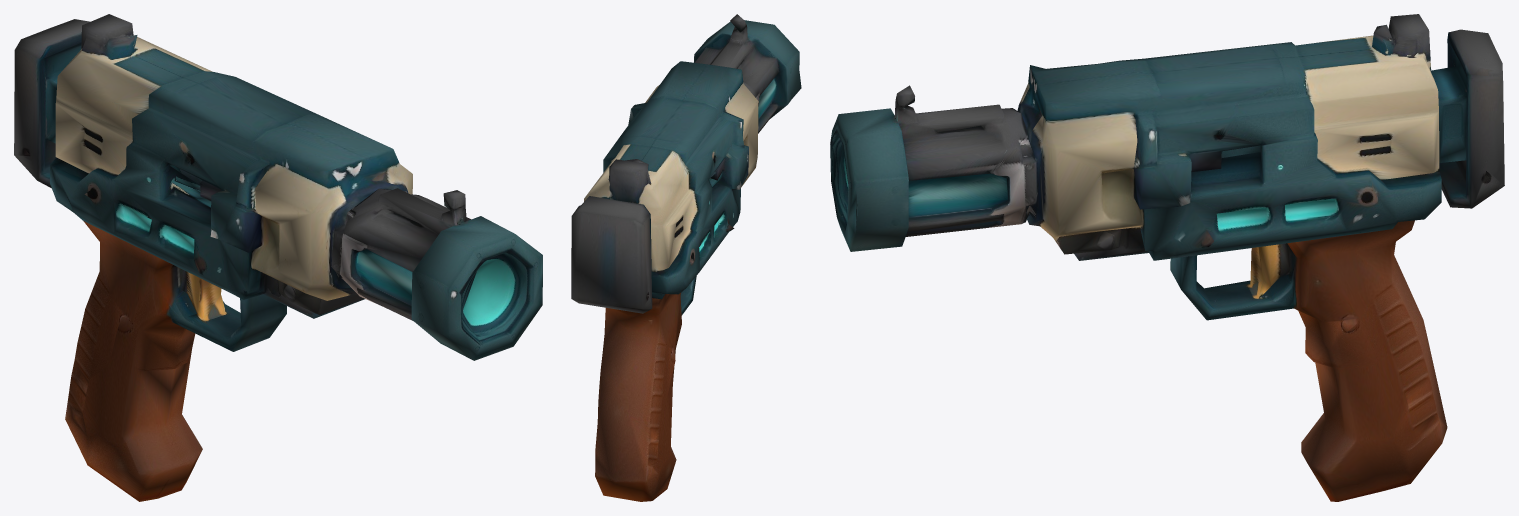
The model's file is weapon_laser_gun_1500.glb.
3 views of the same model, side by side, from view 1: azimuth 30°, elevation 25°; view 2: azimuth 150°, elevation 25°; view 3: azimuth 270°, elevation 25° (orthographic). The views are drawn at different scales.
Parts seen in each view (by area): view 1: tripo_node_92603b9c-31b1-4551-a355-60056b53ac96; view 2: tripo_node_92603b9c-31b1-4551-a355-60056b53ac96; view 3: tripo_node_92603b9c-31b1-4551-a355-60056b53ac96.
Boxes of the visible parts, x1=… form: tripo_node_92603b9c-31b1-4551-a355-60056b53ac96: x1=14, y1=14, x2=542, y2=501; tripo_node_92603b9c-31b1-4551-a355-60056b53ac96: x1=571, y1=14, x2=801, y2=501; tripo_node_92603b9c-31b1-4551-a355-60056b53ac96: x1=830, y1=14, x2=1504, y2=501.
Size of the model in its own units: 0.3883 by 0.7359 by 0.9797.
Materials: 1 (1 with a texture image).
